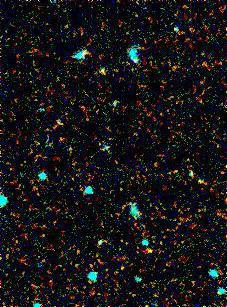star: (134, 237, 164, 267)
